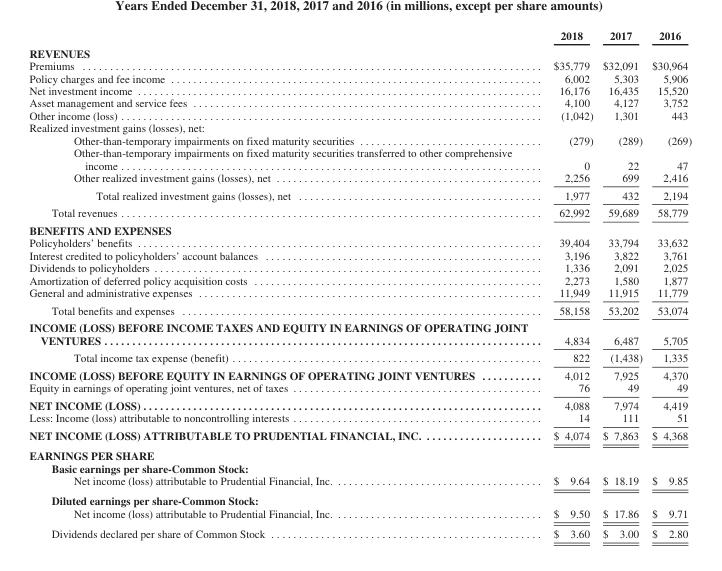table: (28, 28, 691, 539)
table column: (28, 28, 540, 539), (540, 28, 597, 539), (597, 28, 646, 539), (646, 28, 691, 539)
table column header: (28, 28, 691, 43)
table projected row header: (28, 43, 691, 59), (28, 445, 691, 461), (28, 490, 691, 506), (28, 221, 691, 236), (28, 461, 691, 474), (28, 121, 691, 133)
table row: (28, 318, 691, 348), (28, 146, 691, 170), (28, 426, 691, 445), (28, 185, 691, 203), (28, 203, 691, 221), (28, 348, 691, 366), (28, 301, 691, 318), (28, 506, 691, 523), (28, 43, 691, 59), (28, 285, 691, 301), (28, 445, 691, 461), (28, 474, 691, 490), (28, 490, 691, 506), (28, 523, 691, 539), (28, 28, 691, 43), (28, 170, 691, 185), (28, 221, 691, 236), (28, 366, 691, 381), (28, 381, 691, 396), (28, 396, 691, 411), (28, 411, 691, 426), (28, 71, 691, 84), (28, 108, 691, 121), (28, 133, 691, 146), (28, 248, 691, 261), (28, 461, 691, 474), (28, 59, 691, 71), (28, 84, 691, 96), (28, 96, 691, 108), (28, 121, 691, 133), (28, 236, 691, 248), (28, 261, 691, 273), (28, 273, 691, 285)
